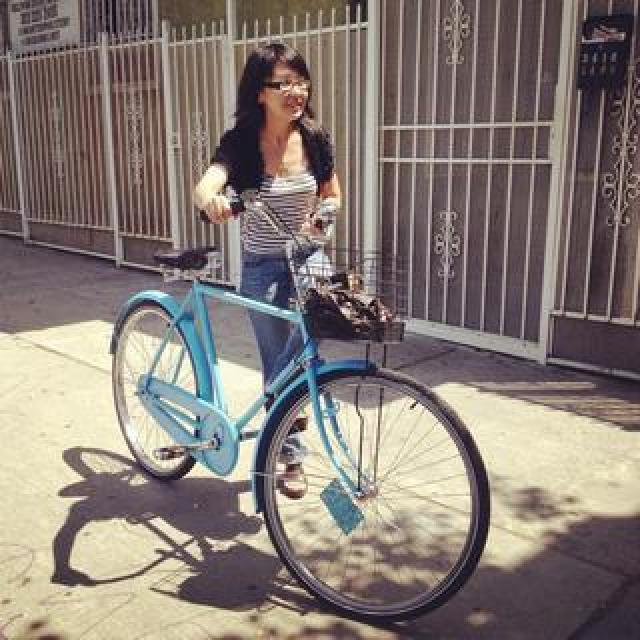MC-Bike: (194, 32, 344, 572)
Person: (104, 210, 496, 616)
